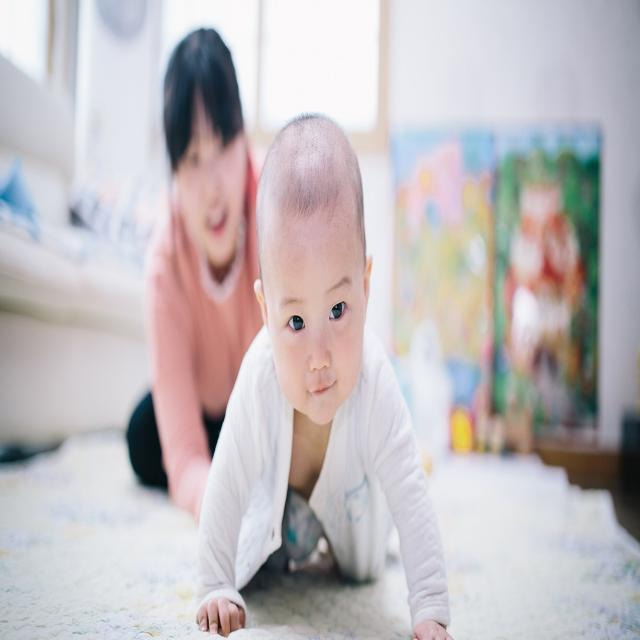non-dog: (197, 116, 456, 640), (125, 25, 265, 525)
